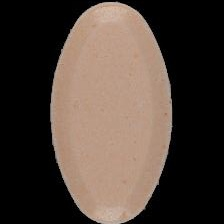64725-0056: (0, 0, 224, 224)
